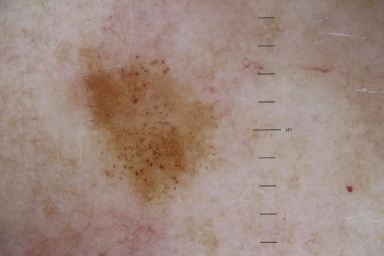melanoma: (87, 63, 219, 207)
